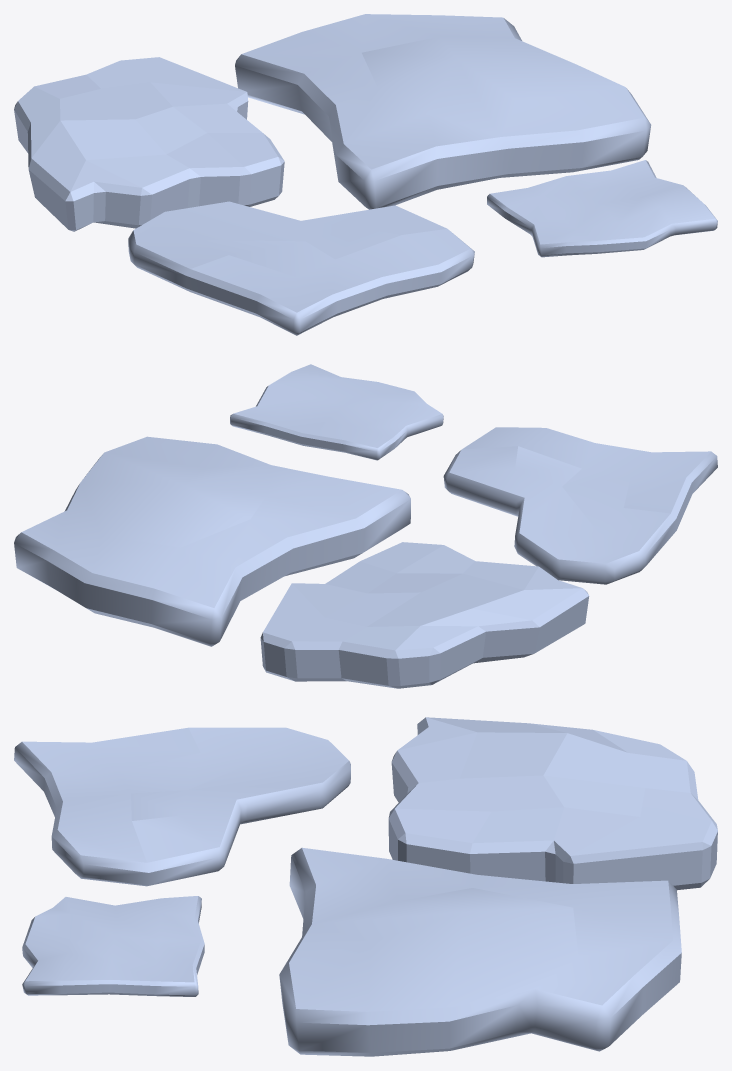
Rendered from floe15.fbx.
The picture shows the model from 3 angles, top to bottom: view 1: azimuth 30°, elevation 25°; view 2: azimuth 150°, elevation 25°; view 3: azimuth 270°, elevation 25°; orthographic projection. The views are drawn at different scales.
Visible parts, largest first — view 1: Plane.026, Plane.027, Plane.025, Plane.024; view 2: Plane.026, Plane.027, Plane.025, Plane.024; view 3: Plane.026, Plane.027, Plane.025, Plane.024.
Boxes of the visible parts, left/top/right/bottom form: Plane.026: left=235, top=14, right=651, bottom=209; Plane.027: left=14, top=57, right=284, bottom=231; Plane.025: left=128, top=201, right=474, bottom=335; Plane.024: left=487, top=160, right=717, bottom=257; Plane.026: left=14, top=436, right=410, bottom=646; Plane.027: left=260, top=542, right=589, bottom=688; Plane.025: left=443, top=427, right=717, bottom=584; Plane.024: left=230, top=364, right=443, bottom=460; Plane.026: left=279, top=847, right=681, bottom=1056; Plane.027: left=388, top=717, right=717, bottom=890; Plane.025: left=14, top=727, right=350, bottom=886; Plane.024: left=22, top=896, right=204, bottom=996.
Size of the model in its own units: 368 by 48.9 by 371.
